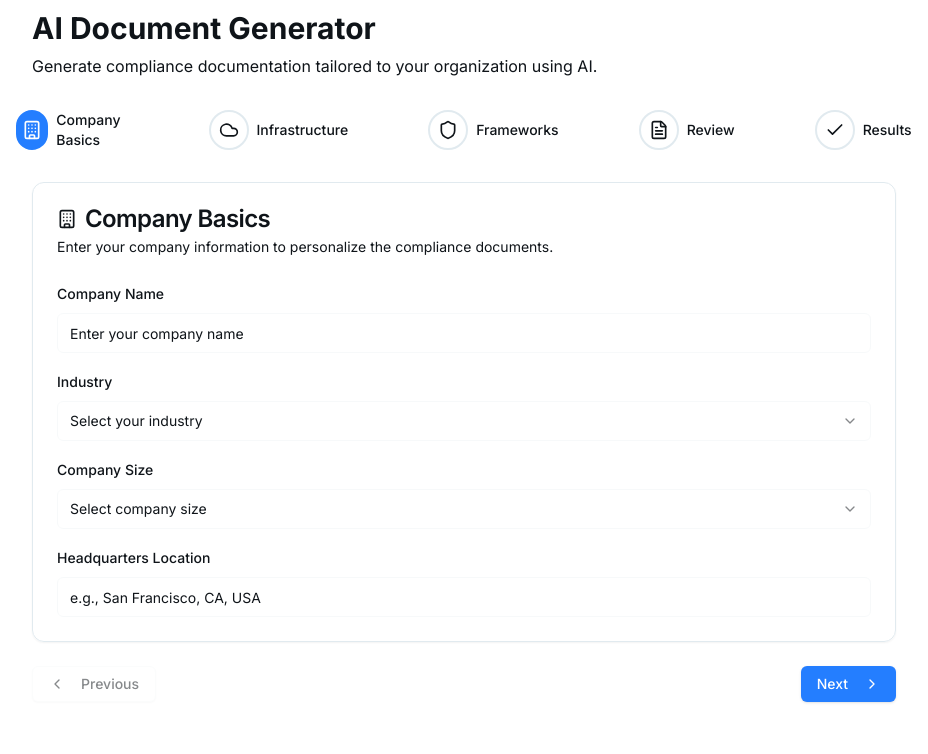
it: AI Document Generator Page › Step 1: Company Basics › should require all fields to proceed
What coordinates should you click on to do the following:
click the button with test id "button-next"
I would click on:
 (848, 684)
Its box is [801, 666, 896, 702].
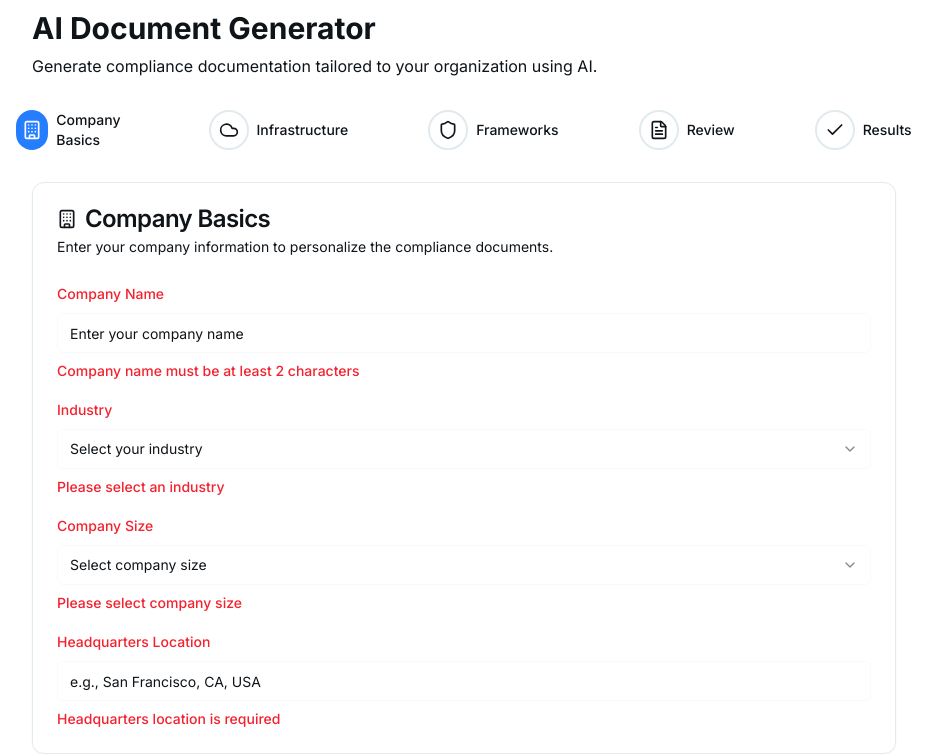
Check: the text "Company name must be at least 2 characters" is shown, box [57, 362, 360, 379]
